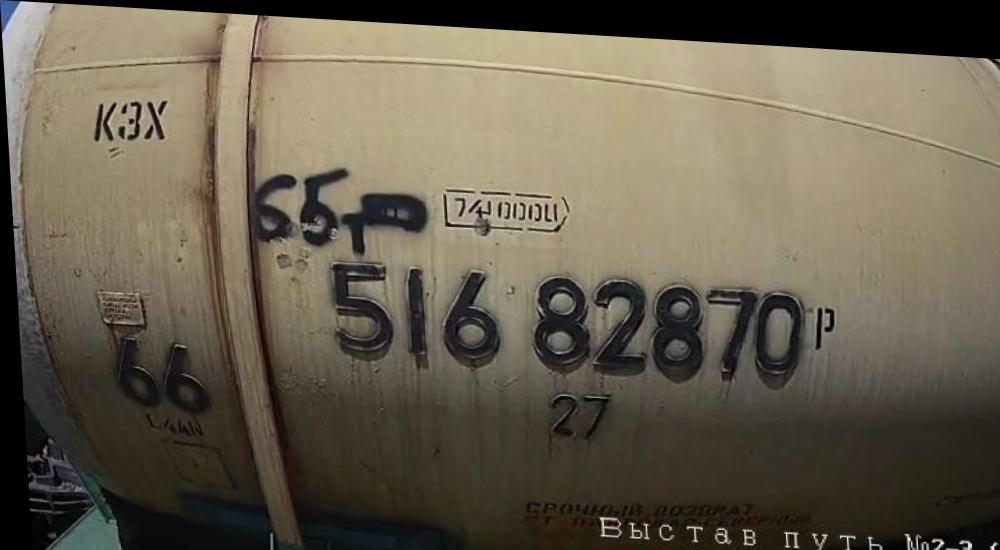Wagon-number: (323, 250, 809, 387)
